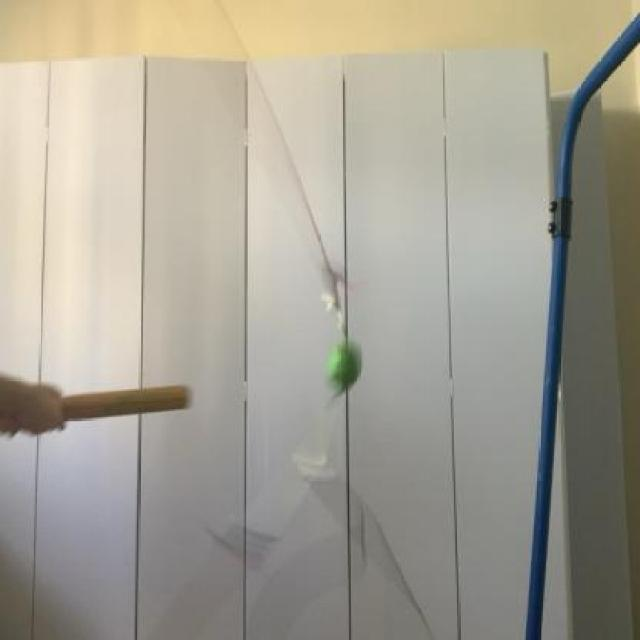baseball: (319, 337, 383, 398)
